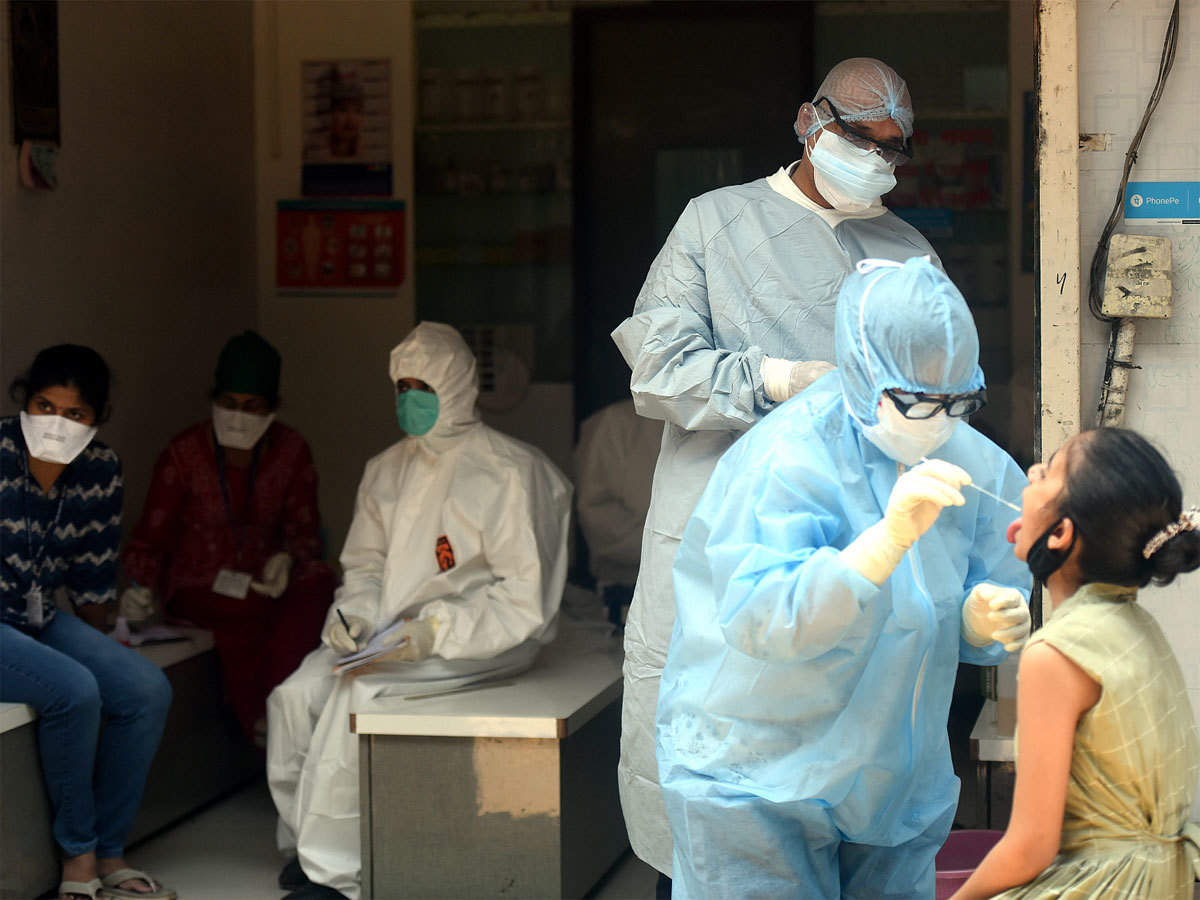Coverall: (696, 259, 1023, 899), (284, 324, 560, 900)
Gloves: (846, 457, 967, 581), (960, 575, 1029, 666)
with_mask: (808, 126, 906, 221), (866, 391, 954, 469), (18, 392, 101, 462), (208, 390, 275, 450), (392, 382, 442, 432)
